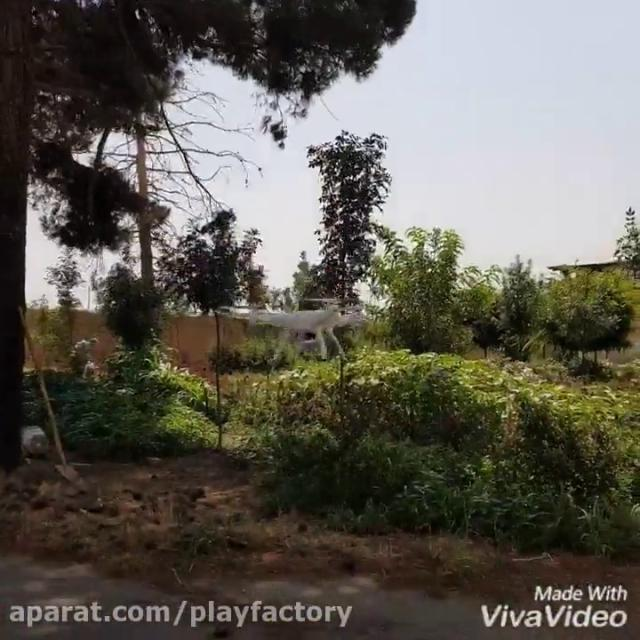drone: (217, 296, 375, 358)
